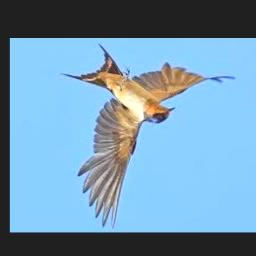Swallow: (59, 43, 234, 229)
